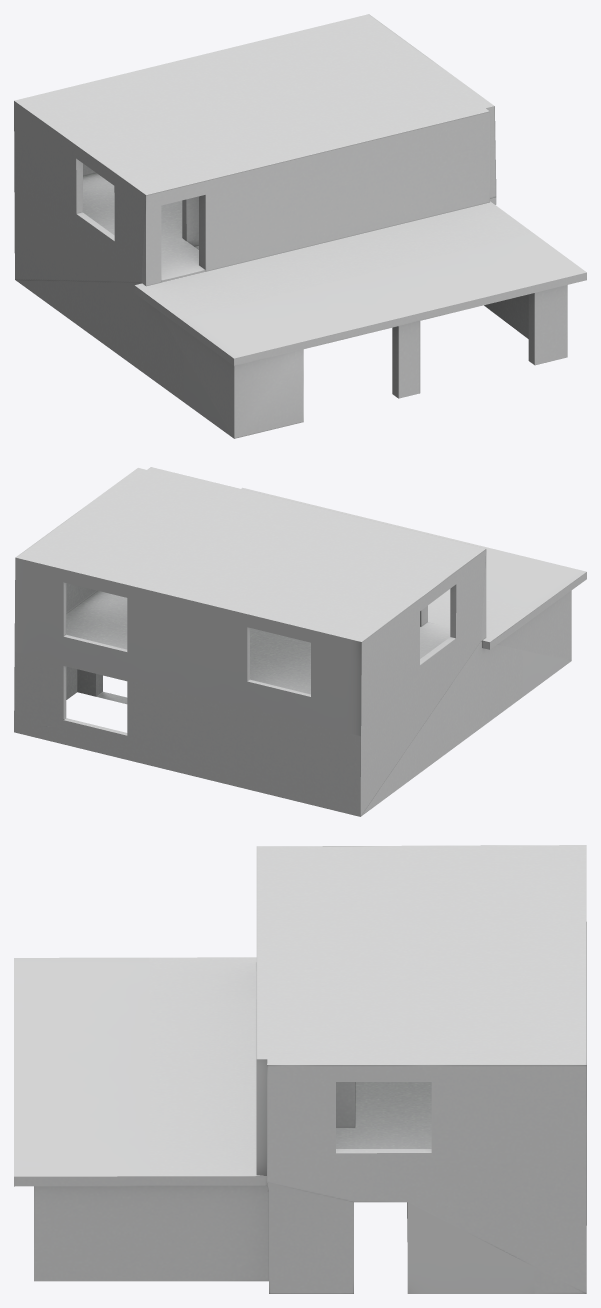
The model's file is house2.glb.
3 renders of one model, top to bottom at view 1: azimuth 30°, elevation 25°; view 2: azimuth 150°, elevation 25°; view 3: azimuth 270°, elevation 25°, orthographic. The views are drawn at different scales.
Visible parts, largest first — view 1: Object_2; view 2: Object_2; view 3: Object_2.
Boxes of the visible parts, x1,y1,x2,y2 form: Object_2: [14, 14, 586, 438]; Object_2: [14, 467, 586, 816]; Object_2: [14, 845, 586, 1293].
Bounding box in the file's own units: 11.44 × 5.56 × 12.34.
1 material, 1 textured.
